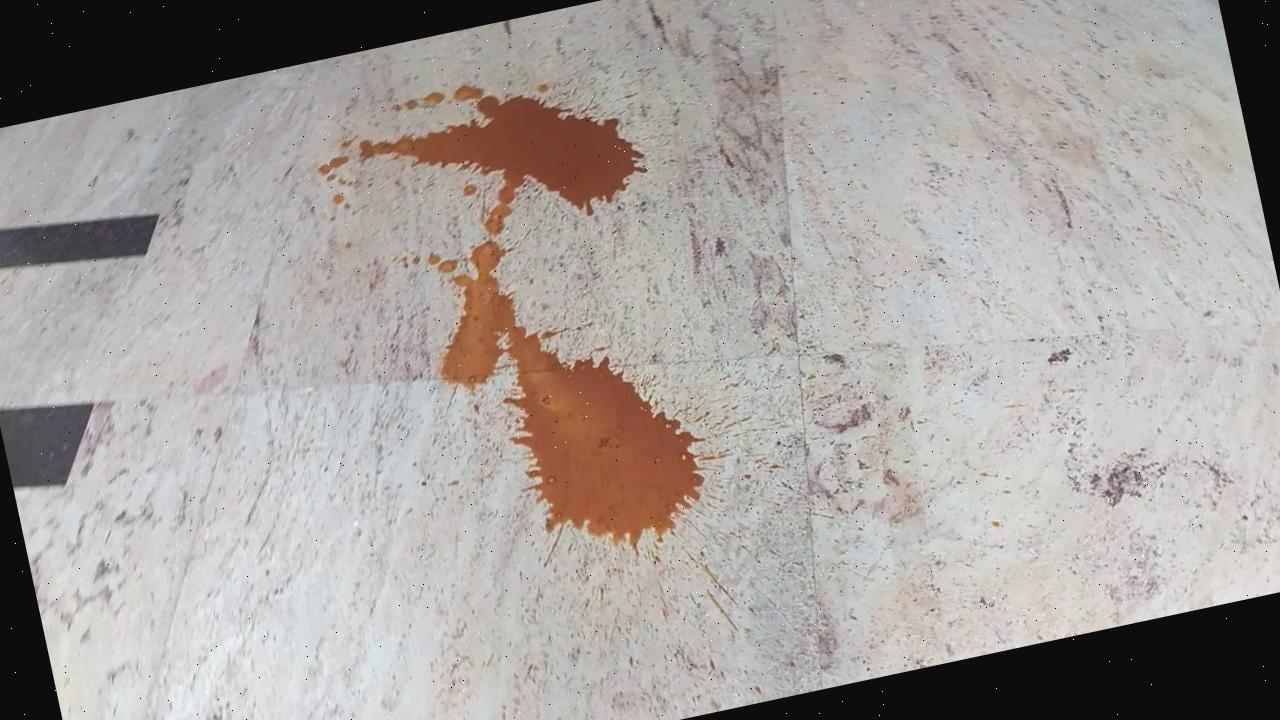dirty_floor: (267, 52, 718, 602)
